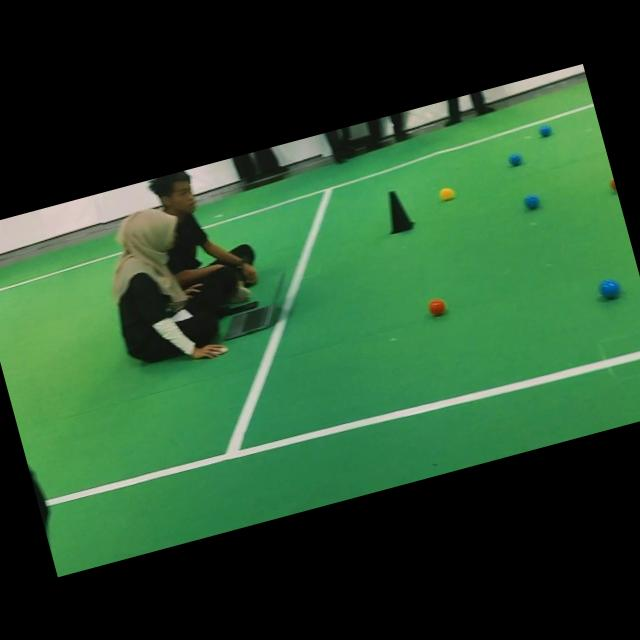ball: (598, 279, 620, 298), (428, 298, 446, 316), (523, 193, 540, 209), (439, 187, 456, 200), (538, 124, 553, 137), (508, 153, 522, 166), (611, 177, 616, 191)
